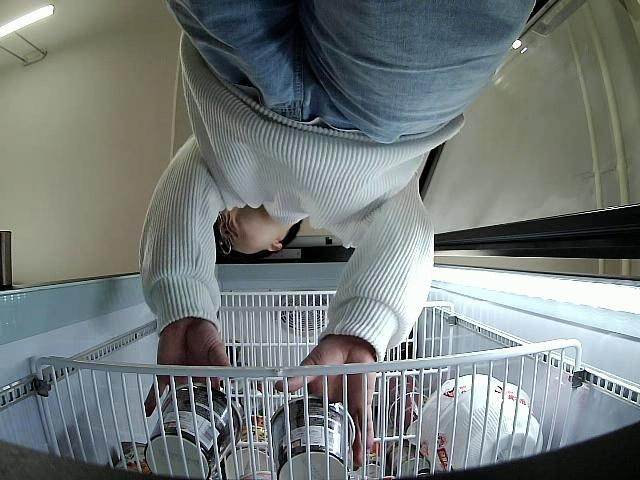08_buldak_S: (146, 384, 245, 474), (268, 392, 360, 480)
